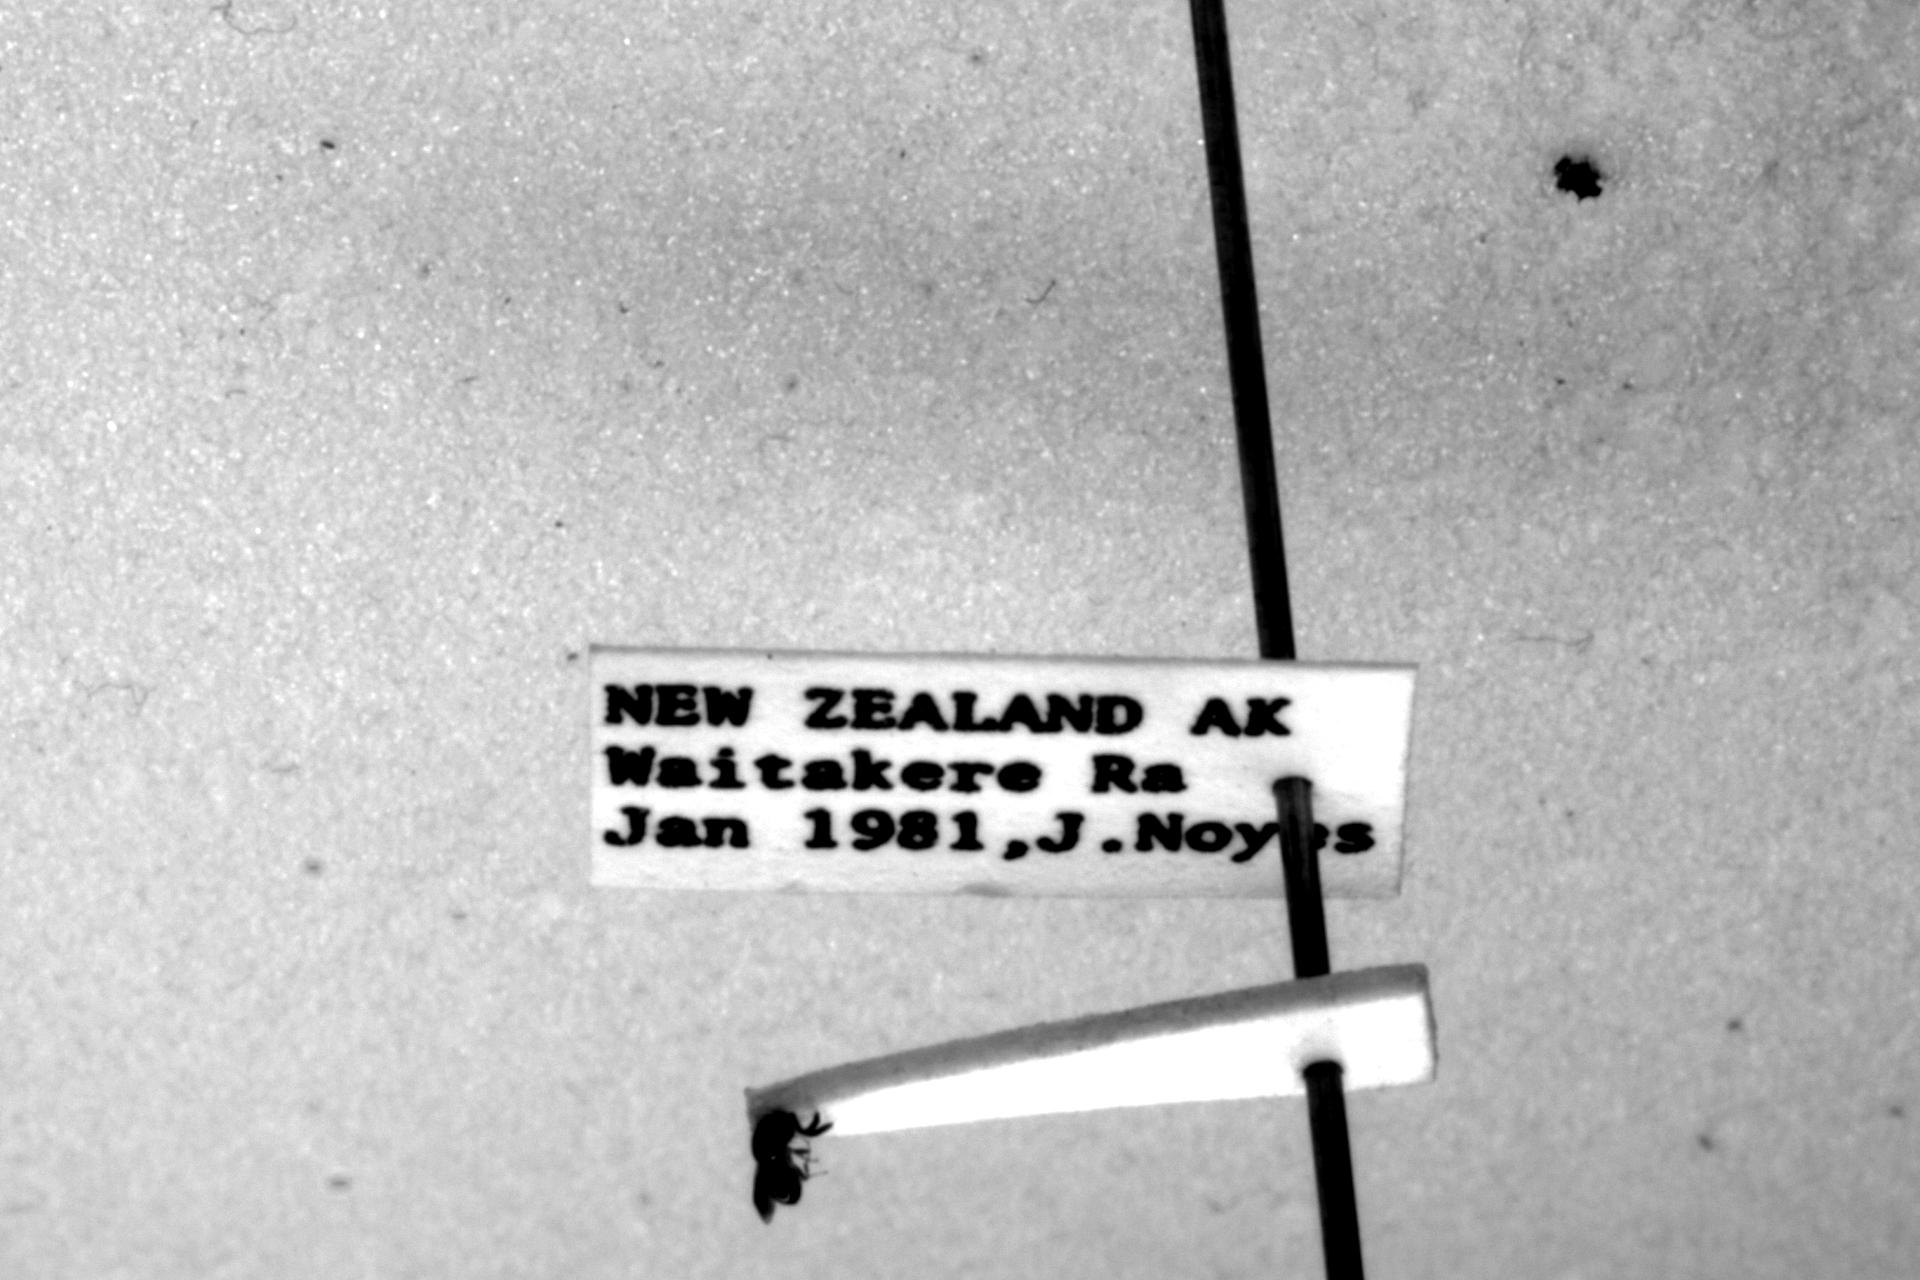typed_label: (589, 649, 1414, 896)
